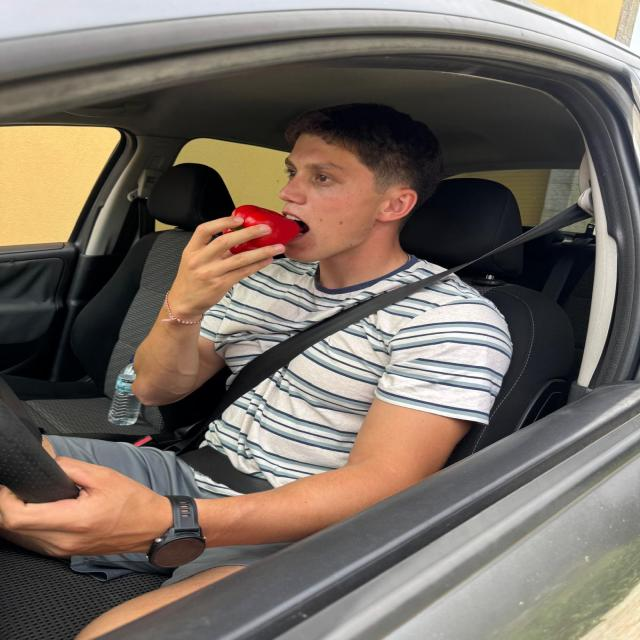Eating: (222, 206, 308, 262)
Seatbelt: (171, 174, 589, 493)
